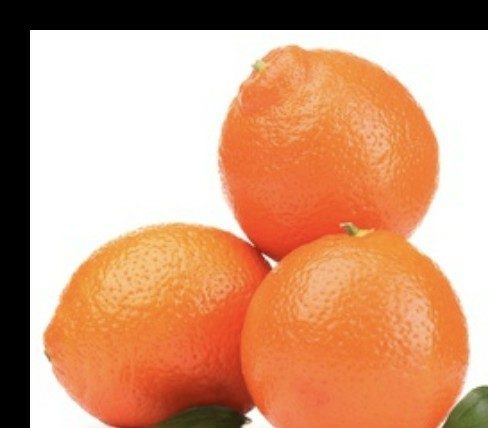fresh_orange: (219, 44, 440, 252), (47, 222, 266, 424), (250, 230, 467, 428)
